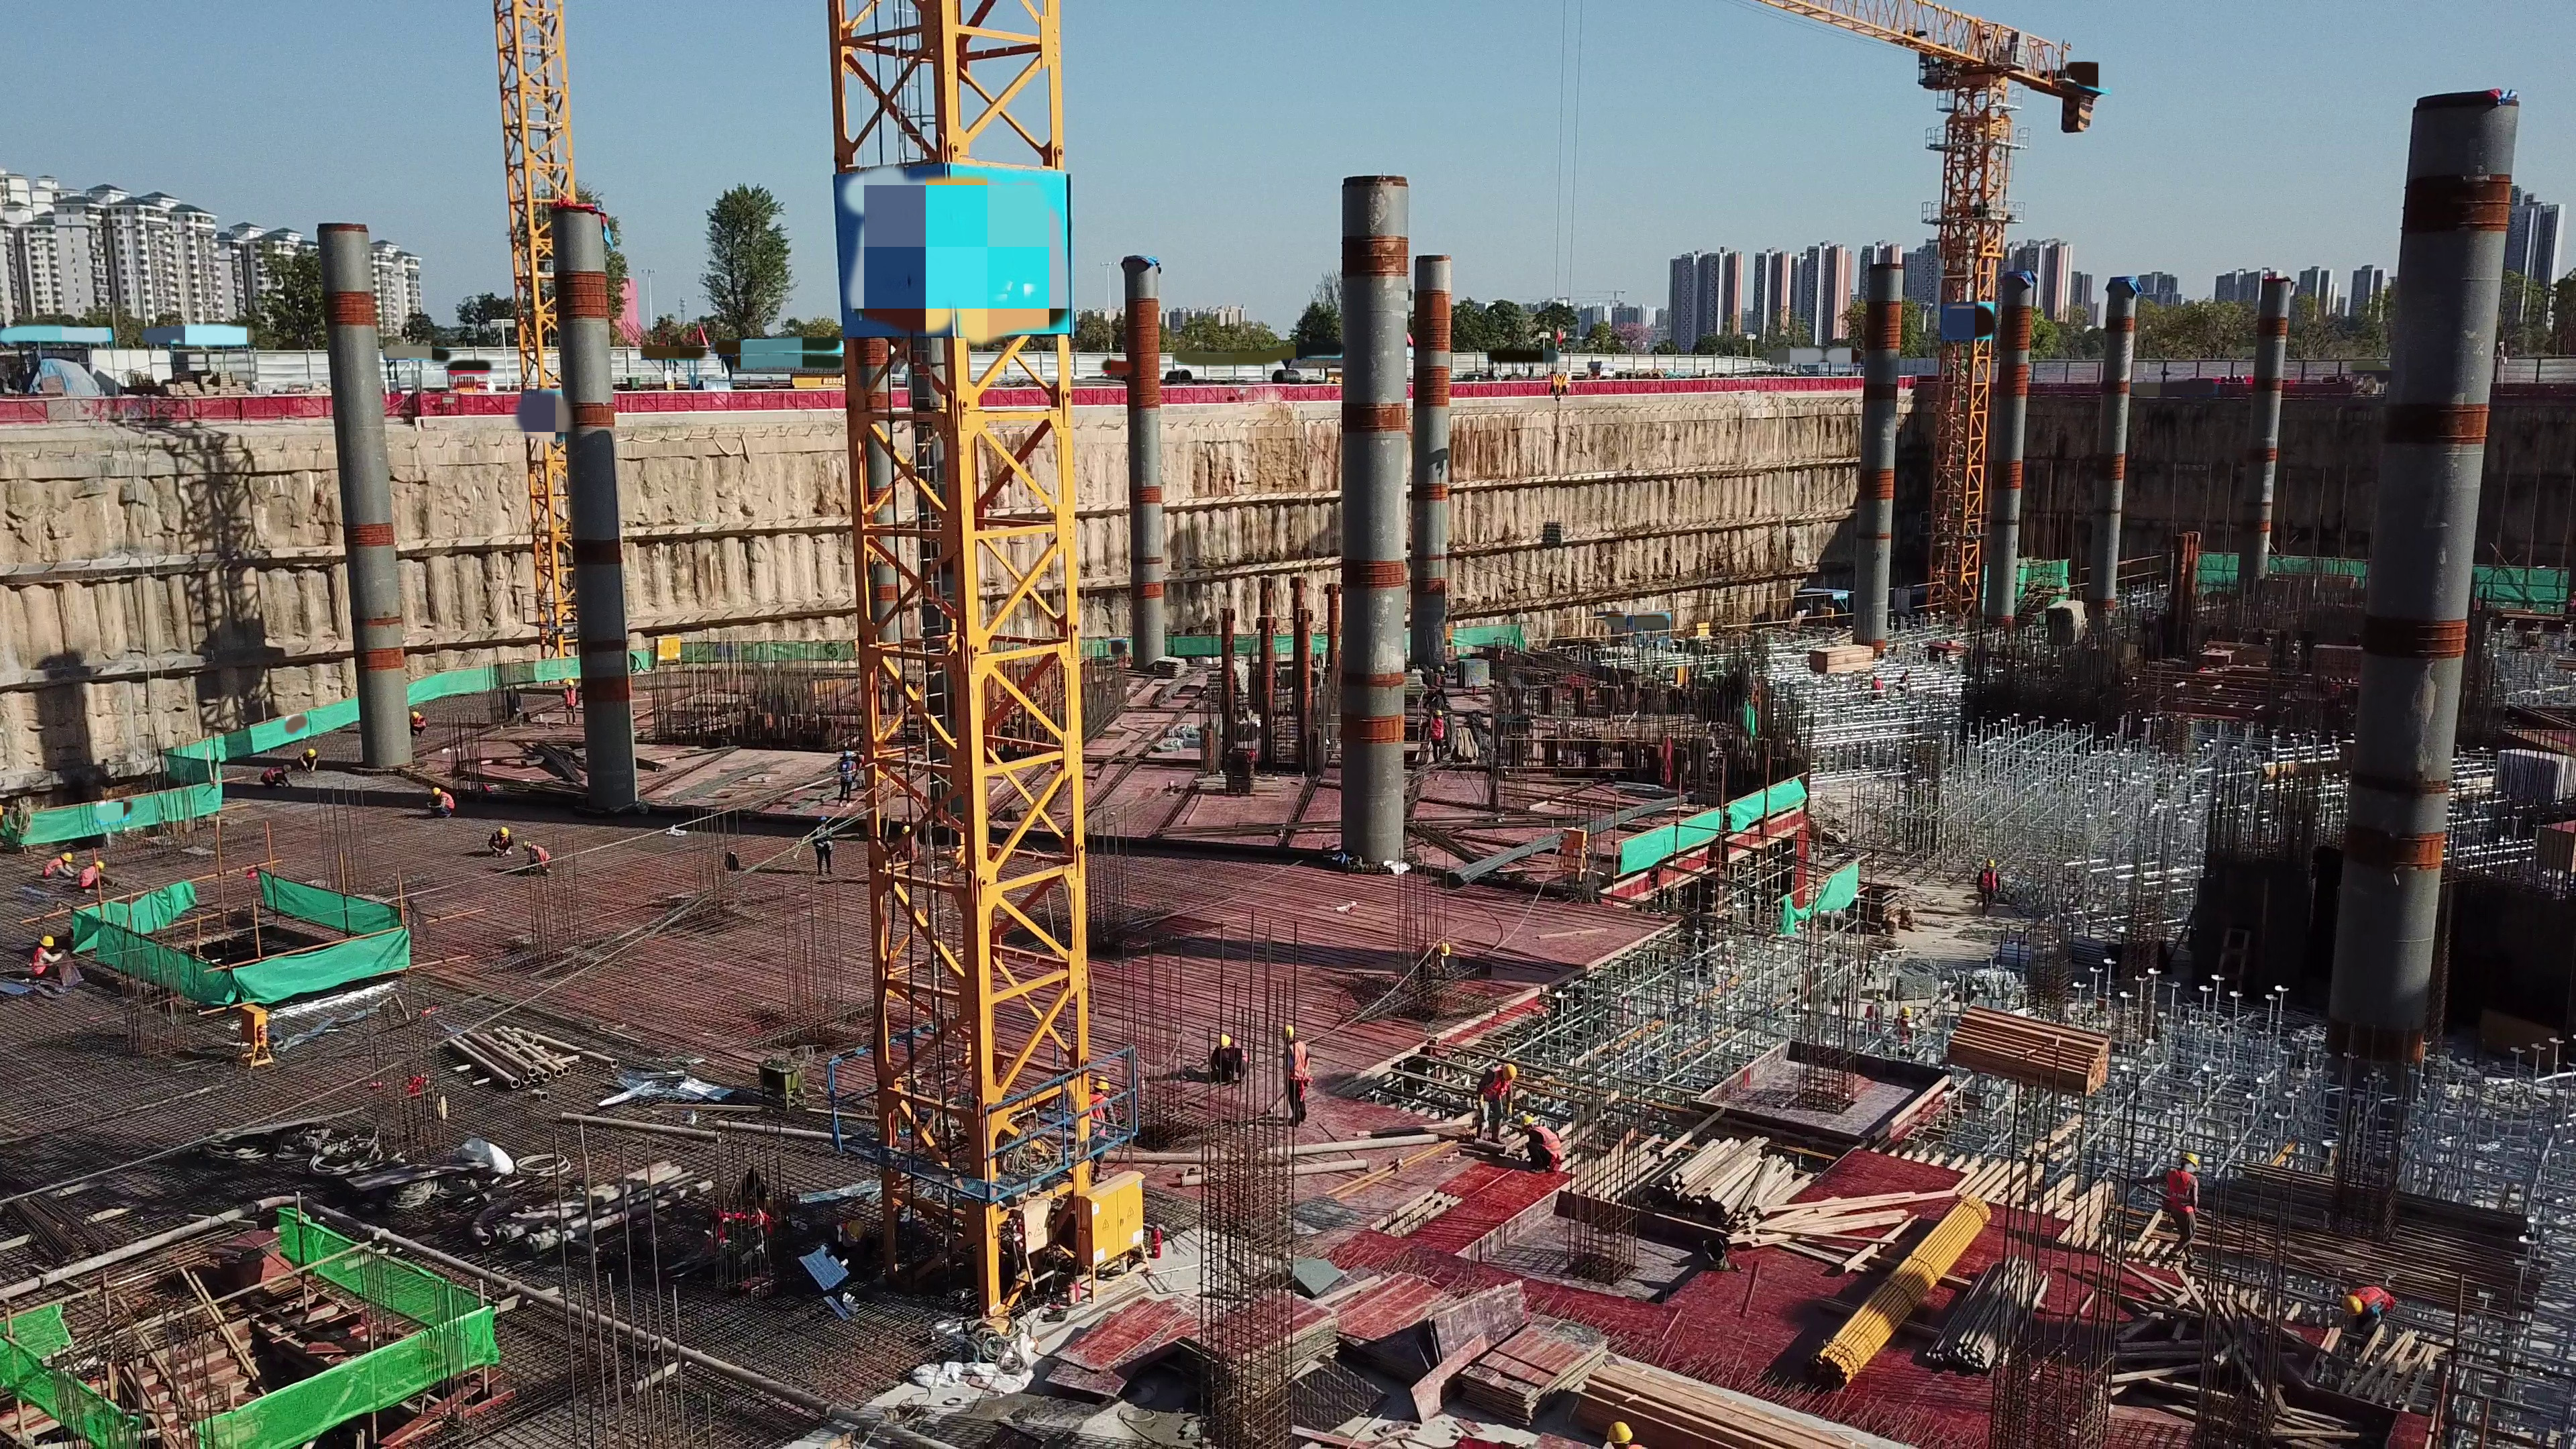board: (1458, 1313, 1607, 1427), (1187, 1283, 1338, 1385), (2536, 822, 2576, 869)
ebox: (1075, 1164, 1142, 1260), (233, 1001, 270, 1057), (651, 631, 680, 665)
helmet: (2341, 1293, 2363, 1319), (845, 1222, 865, 1242), (1518, 1114, 1537, 1130), (2179, 1150, 2198, 1167), (1094, 1075, 1110, 1092), (1502, 1061, 1515, 1082), (1217, 1034, 1232, 1051), (39, 935, 55, 949), (59, 853, 72, 863), (498, 826, 510, 839), (429, 788, 442, 796)
hook: (1549, 372, 1570, 401)
person: (2165, 1151, 2200, 1268), (1473, 1062, 1517, 1146), (1281, 1023, 1309, 1128), (1091, 1075, 1118, 1184), (818, 1220, 869, 1275), (1517, 1114, 1563, 1173), (2340, 1285, 2396, 1332), (1211, 1034, 1249, 1085), (31, 934, 66, 979), (1976, 857, 2001, 916), (813, 816, 834, 876), (77, 861, 119, 890), (40, 851, 80, 880), (522, 839, 551, 876), (838, 752, 856, 808), (425, 787, 455, 820), (260, 763, 294, 790), (488, 826, 513, 858), (563, 680, 579, 727), (295, 748, 318, 773), (409, 711, 427, 736)
vest: (2165, 1169, 2196, 1215), (1532, 1123, 1560, 1161), (1485, 1063, 1508, 1106), (2360, 1287, 2394, 1313), (1291, 1041, 1307, 1085), (30, 946, 47, 975), (530, 841, 548, 866), (1979, 870, 1998, 894), (439, 790, 455, 813), (263, 765, 284, 784), (80, 867, 99, 885), (43, 857, 60, 877)
wood: (1580, 1356, 1857, 1449), (1654, 1134, 1815, 1228), (1945, 1006, 2108, 1099), (1927, 1259, 2051, 1371), (1809, 645, 1874, 674)
